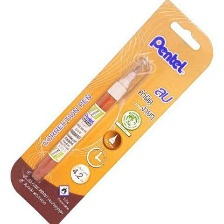book: (9, 0, 217, 224)
correction_fluid: (29, 55, 154, 182)
